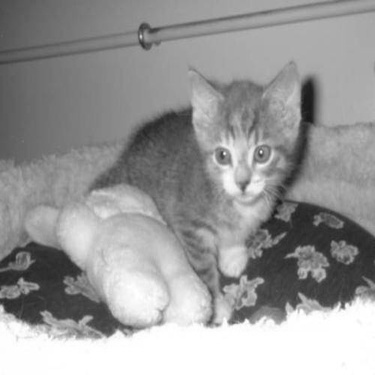cat: (72, 64, 312, 281)
